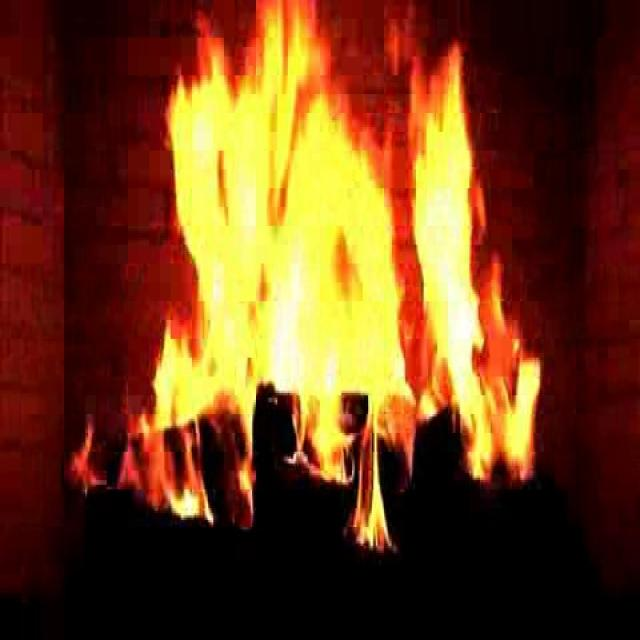fire: (162, 23, 529, 495)
